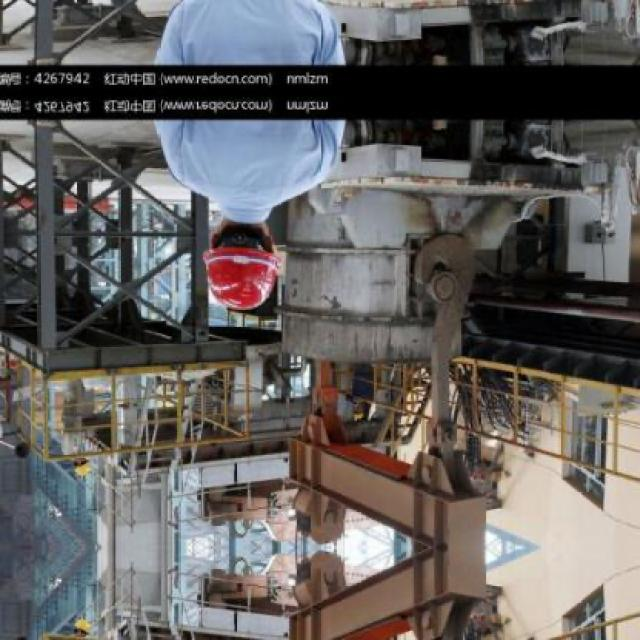con casco: (181, 184, 316, 314)
